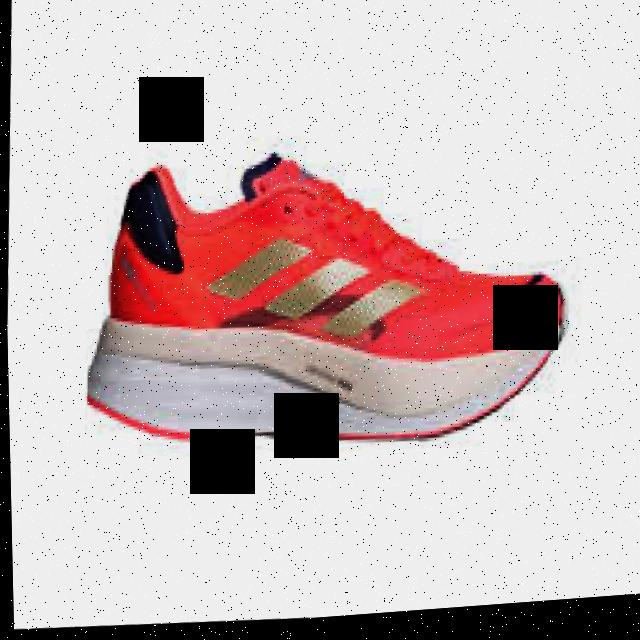shoe: (79, 135, 578, 474)
